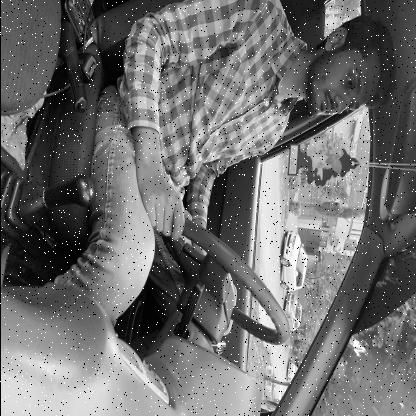no_seatbelt: (170, 38, 392, 158)
